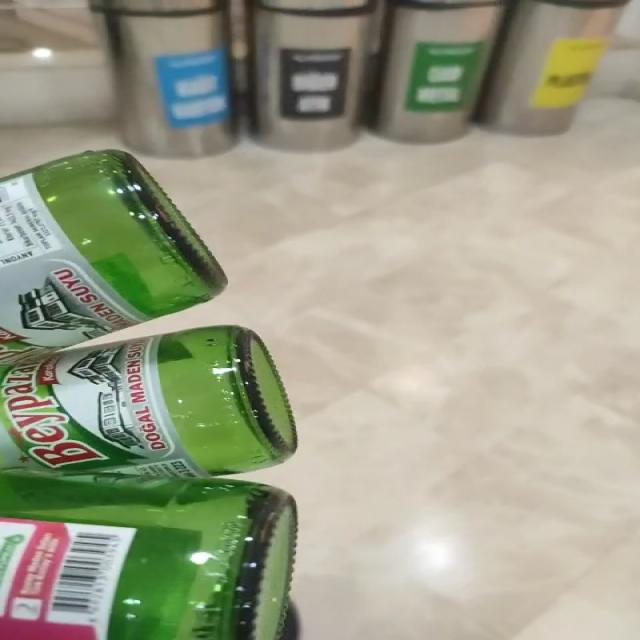glass: (0, 150, 296, 640)
